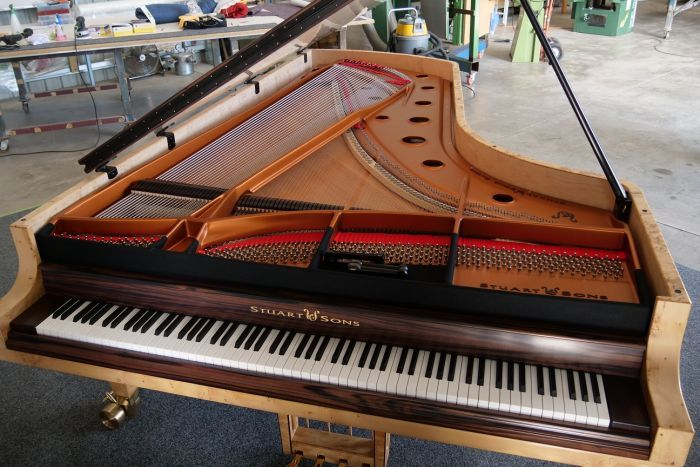GrandPiano: (12, 36, 686, 436)
